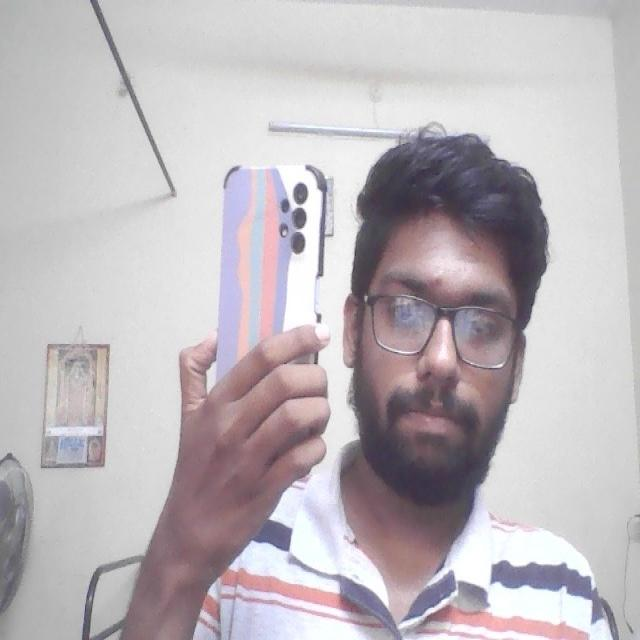Mobile: (210, 153, 329, 348)
